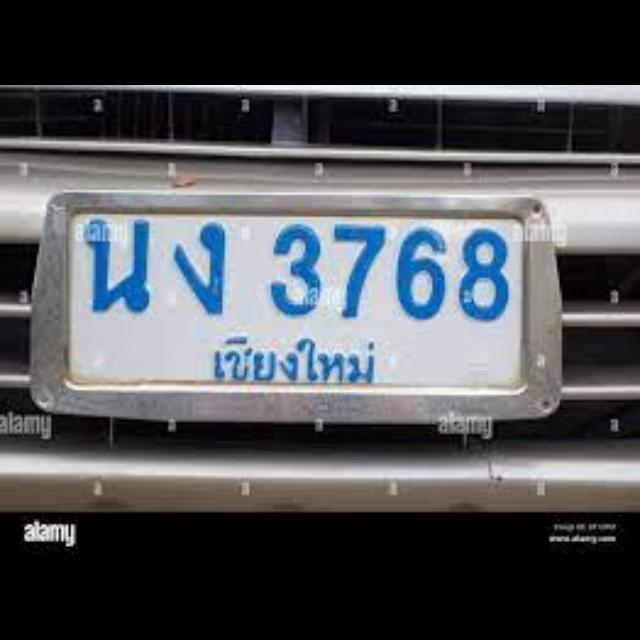licenseplate: (37, 191, 567, 421)
